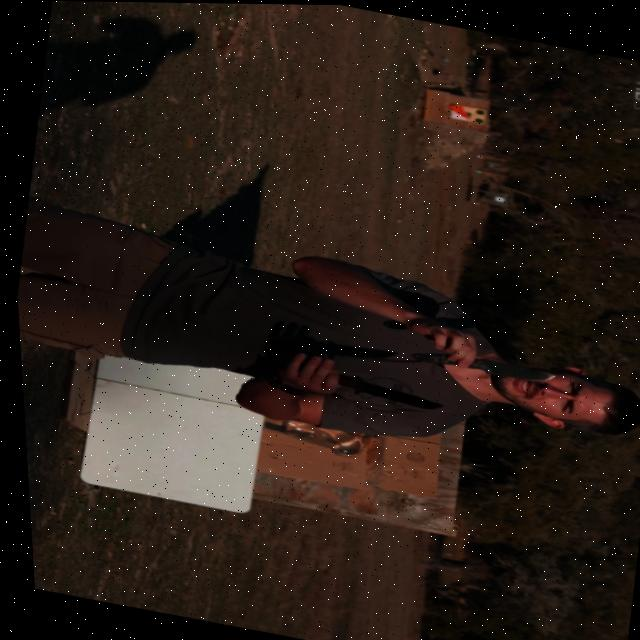knife: (405, 341, 568, 387), (317, 366, 451, 416)
